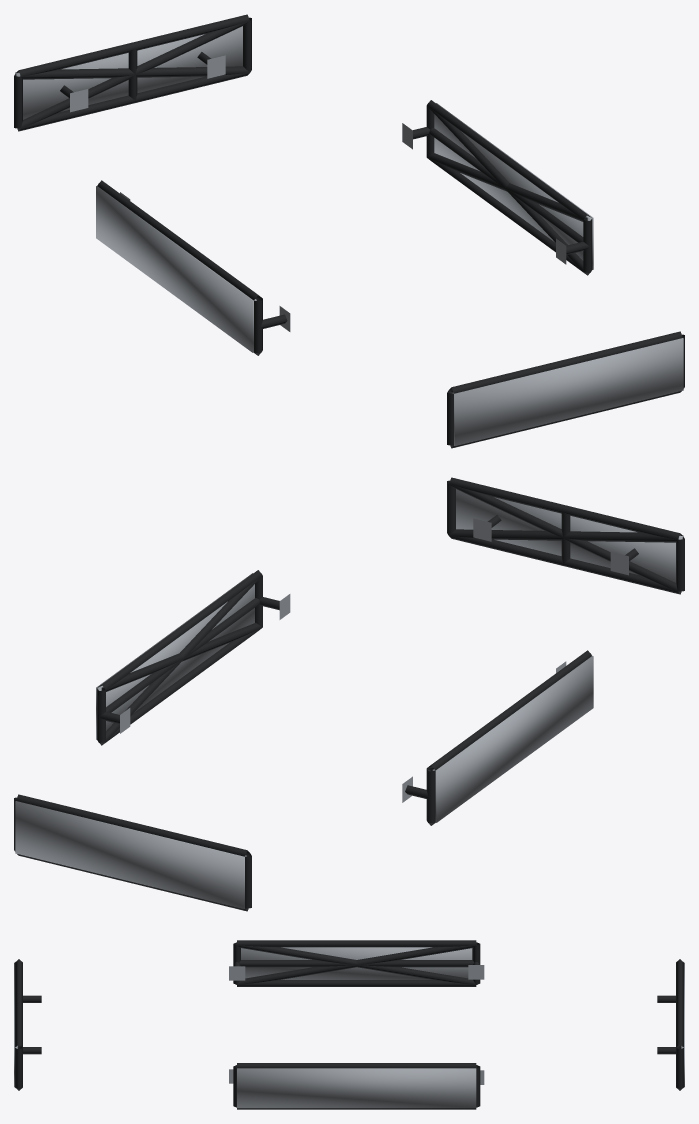
File: ostwerk_cimbra_protecao.glb
3 views of the same model, one above another, from view 1: azimuth 30°, elevation 25°; view 2: azimuth 150°, elevation 25°; view 3: azimuth 270°, elevation 25° (orthographic). The views are drawn at different scales.
Visible parts, largest first — view 1: Protection_front_Level3_Details, Protection_left_Level3_Details, Protection_rear_Level1_Details, Protection_rear_Level3_Details, Protection_right_Level1_Details, Protection_rear_Level2_Details, Protection_right_Level2_Details, Protection_right_Level3_Details, Protection_front_Level1_Details, Protection_left_Level1_Details; view 2: Protection_rear_Level3_Details, Protection_left_Level3_Details, Protection_front_Level1_Details, Protection_front_Level3_Details, Protection_right_Level1_Details, Protection_front_Level2_Details, Protection_right_Level2_Details, Protection_right_Level3_Details, Protection_rear_Level1_Details, Protection_left_Level1_Details; view 3: Protection_right_Level3_Details, Protection_left_Level2_Details, Protection_left_Level1_Details, Protection_left_Level3_Details, Protection_right_Level1_Details, Protection_rear_Level1_Details, Protection_front_Level1_Details.
Part boxes in pixels (bbox=[...]): Protection_front_Level3_Details: bbox=[452, 338, 683, 445]; Protection_left_Level3_Details: bbox=[96, 186, 256, 352]; Protection_rear_Level1_Details: bbox=[14, 14, 251, 131]; Protection_rear_Level3_Details: bbox=[15, 26, 242, 119]; Protection_right_Level1_Details: bbox=[402, 100, 592, 275]; Protection_rear_Level2_Details: bbox=[16, 21, 249, 130]; Protection_right_Level2_Details: bbox=[427, 106, 591, 275]; Protection_right_Level3_Details: bbox=[434, 103, 593, 269]; Protection_front_Level1_Details: bbox=[447, 331, 684, 448]; Protection_left_Level1_Details: bbox=[97, 180, 290, 355]; Protection_rear_Level3_Details: bbox=[15, 801, 246, 908]; Protection_left_Level3_Details: bbox=[432, 656, 593, 822]; Protection_front_Level1_Details: bbox=[447, 477, 684, 594]; Protection_front_Level3_Details: bbox=[456, 489, 683, 582]; Protection_right_Level1_Details: bbox=[97, 570, 290, 745]; Protection_front_Level2_Details: bbox=[449, 484, 682, 593]; Protection_right_Level2_Details: bbox=[98, 576, 262, 744]; Protection_right_Level3_Details: bbox=[96, 573, 254, 739]; Protection_rear_Level1_Details: bbox=[14, 794, 251, 911]; Protection_left_Level1_Details: bbox=[402, 650, 591, 825]; Protection_right_Level3_Details: bbox=[237, 1068, 476, 1108]; Protection_left_Level2_Details: bbox=[237, 943, 476, 984]; Protection_left_Level1_Details: bbox=[229, 940, 484, 986]; Protection_left_Level3_Details: bbox=[241, 947, 472, 979]; Protection_right_Level1_Details: bbox=[229, 1063, 484, 1109]; Protection_rear_Level1_Details: bbox=[657, 959, 683, 1090]; Protection_front_Level1_Details: bbox=[15, 959, 41, 1090].
Size of the model in its own units: 2.06 by 0.354 by 4.6.
Materials: 1 (1 with a texture image).
